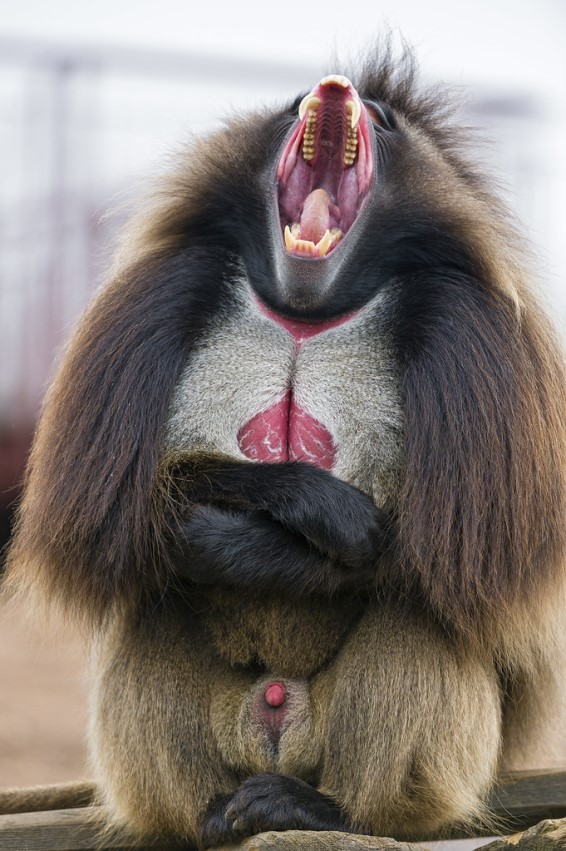Gelada: (40, 72, 552, 814)
